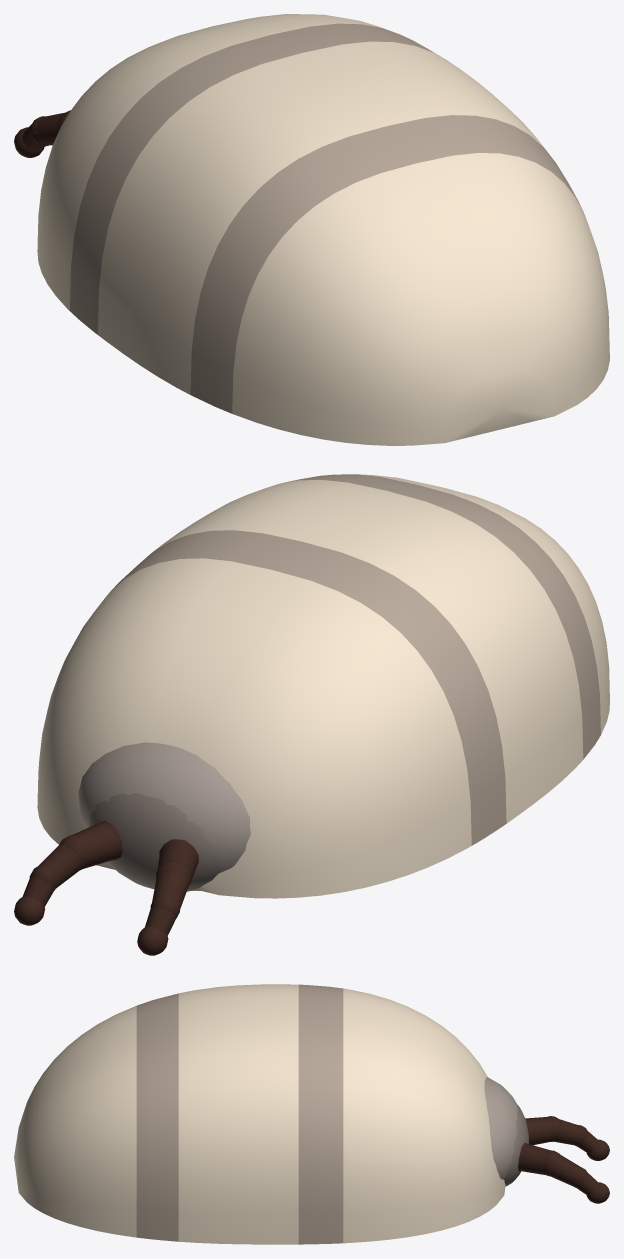
Rendered from bug_grub.glb.
3 views of the same model, one above another, from view 1: azimuth 30°, elevation 25°; view 2: azimuth 150°, elevation 25°; view 3: azimuth 270°, elevation 25° (orthographic). The views are drawn at different scales.
Visible parts, largest first — view 1: body, feeler_l_3, feeler_l_2; view 2: body, head, feeler_l_3, feeler_r_3, feeler_r_1, feeler_r_2, feeler_l_2, feeler_l_1; view 3: body, head, feeler_r_2, feeler_r_1, feeler_r_3, feeler_l_1, feeler_l_2, feeler_l_3.
Part boxes in pixels (x1,y1,x2,y2): body: (37, 14, 609, 445); feeler_l_3: (14, 116, 48, 157); feeler_l_2: (32, 110, 70, 145); body: (37, 474, 609, 898); head: (78, 742, 250, 891); feeler_l_3: (137, 896, 179, 955); feeler_r_3: (14, 865, 57, 925); feeler_r_1: (73, 820, 122, 868); feeler_r_2: (38, 835, 88, 888); feeler_l_2: (152, 860, 191, 916); feeler_l_1: (157, 839, 198, 887); body: (14, 984, 505, 1244); head: (484, 1077, 528, 1186); feeler_r_2: (543, 1150, 580, 1185); feeler_r_1: (518, 1142, 550, 1175); feeler_r_3: (571, 1167, 609, 1203); feeler_l_1: (525, 1117, 557, 1145); feeler_l_2: (547, 1116, 584, 1145); feeler_l_3: (575, 1125, 609, 1160).
Size of the model in its own units: 0.9199 by 0.5449 by 1.64.
